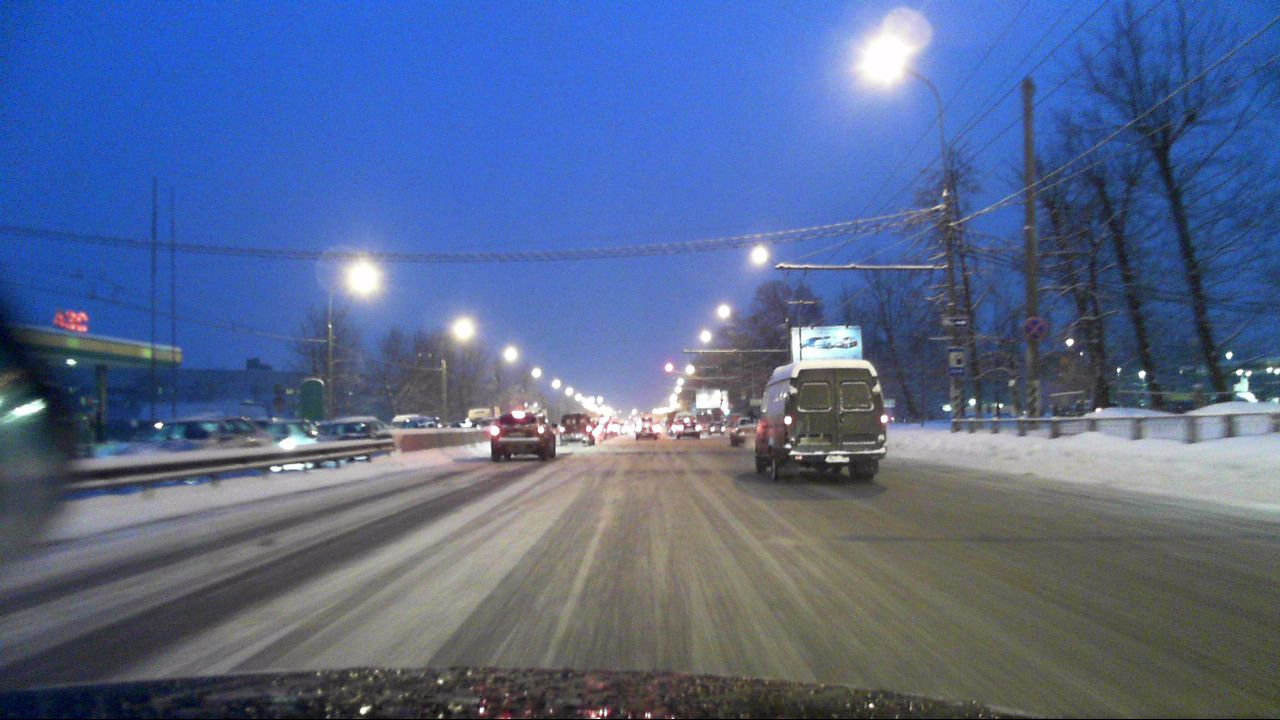No Parking: (1021, 316, 1045, 338)
